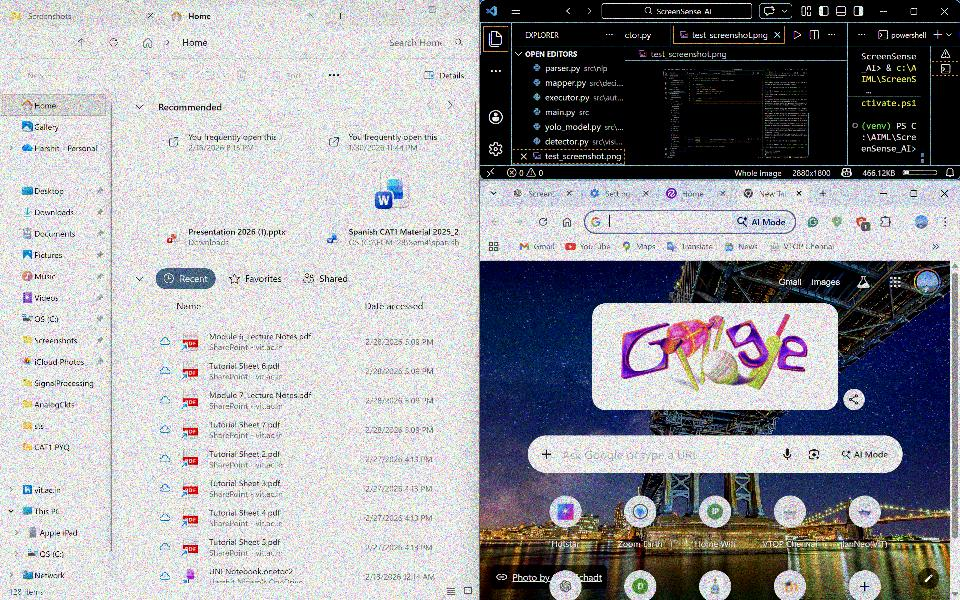close_button: (933, 183, 955, 203), (454, 1, 473, 24), (937, 2, 953, 19)
maximize_button: (423, 1, 443, 23), (904, 183, 924, 202), (905, 2, 923, 18)
minimize_button: (873, 183, 894, 204), (394, 1, 414, 23), (874, 2, 894, 18)
